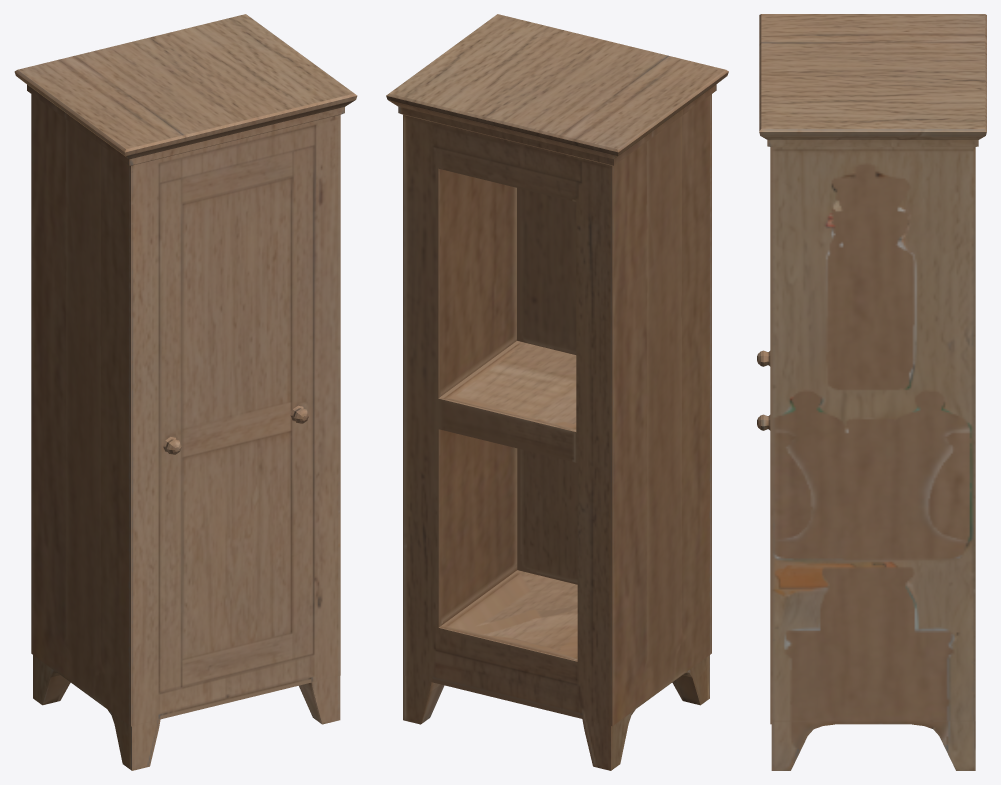
Rendered from PantryShelf_01.fbx.
The picture shows the model from 3 angles, left to right: view 1: azimuth 30°, elevation 25°; view 2: azimuth 150°, elevation 25°; view 3: azimuth 270°, elevation 25°; orthographic projection. The views are drawn at different scales.
Parts seen in each view (by area): view 1: PantryShelf_01_Low; view 2: PantryShelf_01_Low; view 3: PantryShelf_01_Low.
Boxes of the visible parts, <box> form: PantryShelf_01_Low: <box>14,14,357,770</box>; PantryShelf_01_Low: <box>386,14,728,770</box>; PantryShelf_01_Low: <box>757,14,986,770</box>.
Bounding box in the file's own units: 0.741 × 1.91 × 0.6162.
